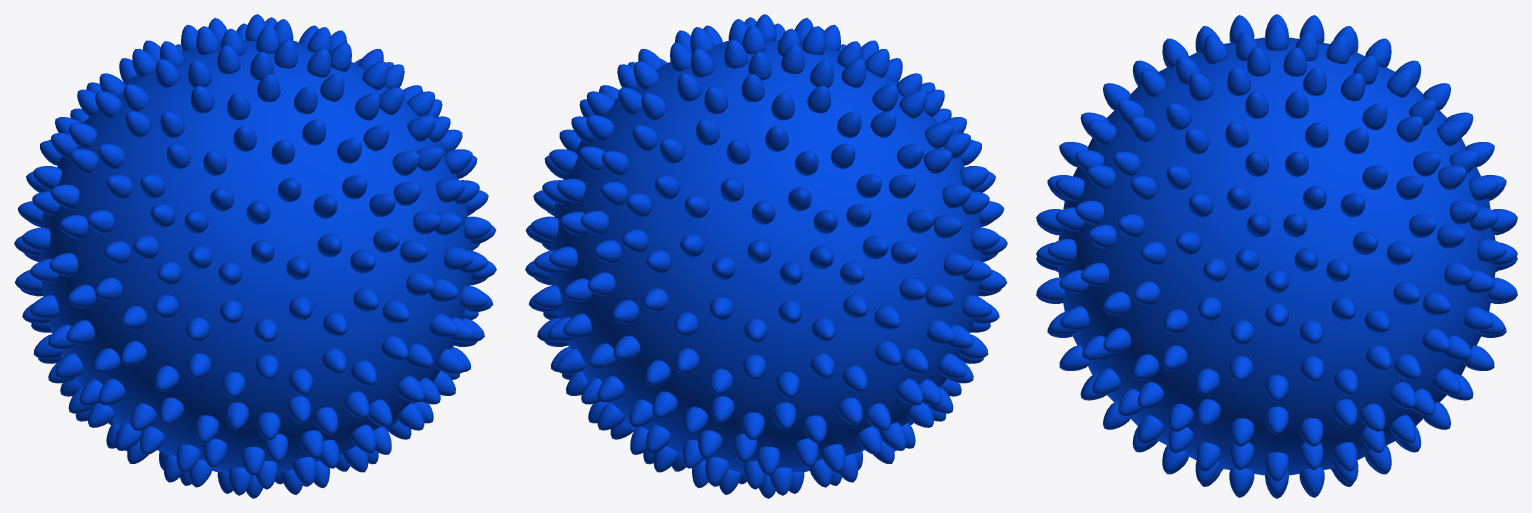
The model's file is toy ball.fbx.
The picture shows the model from 3 angles, left to right: view 1: azimuth 30°, elevation 25°; view 2: azimuth 150°, elevation 25°; view 3: azimuth 270°, elevation 25°; orthographic projection.
Parts seen in each view (by area): view 1: Plane; view 2: Plane; view 3: Plane.
Part boxes in pixels (left/top/right/bottom): Plane: left=14, top=14, right=496, bottom=498; Plane: left=525, top=14, right=1007, bottom=498; Plane: left=1036, top=14, right=1517, bottom=498.
Bounding box in the file's own units: 677 × 682 × 676.
